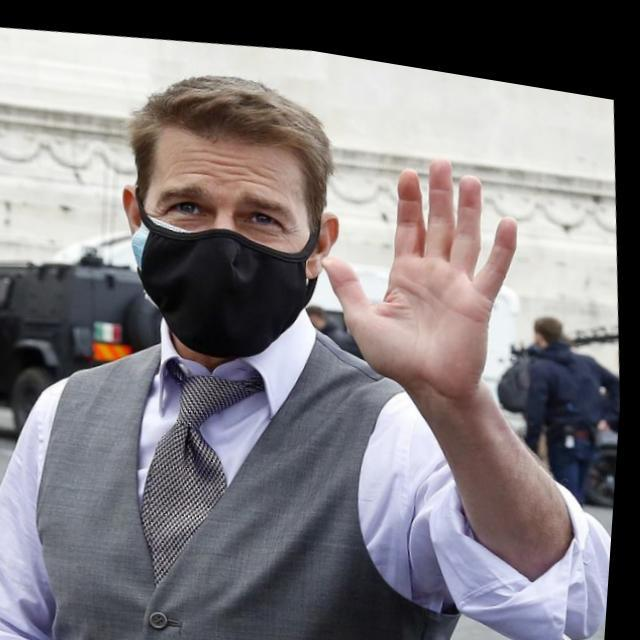Nonhelmet: (116, 71, 342, 361)
